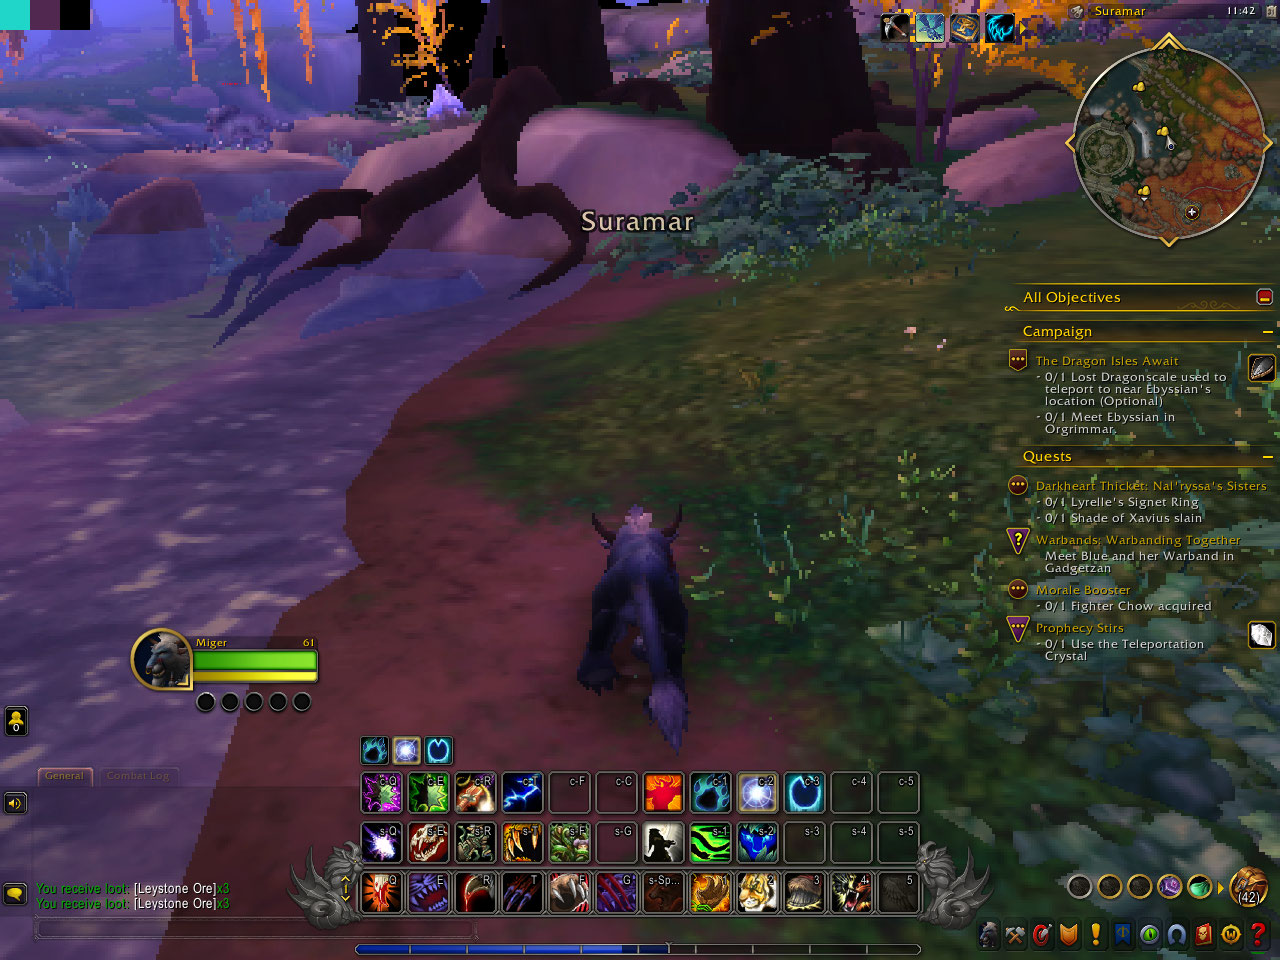ore: (422, 78, 476, 136)
